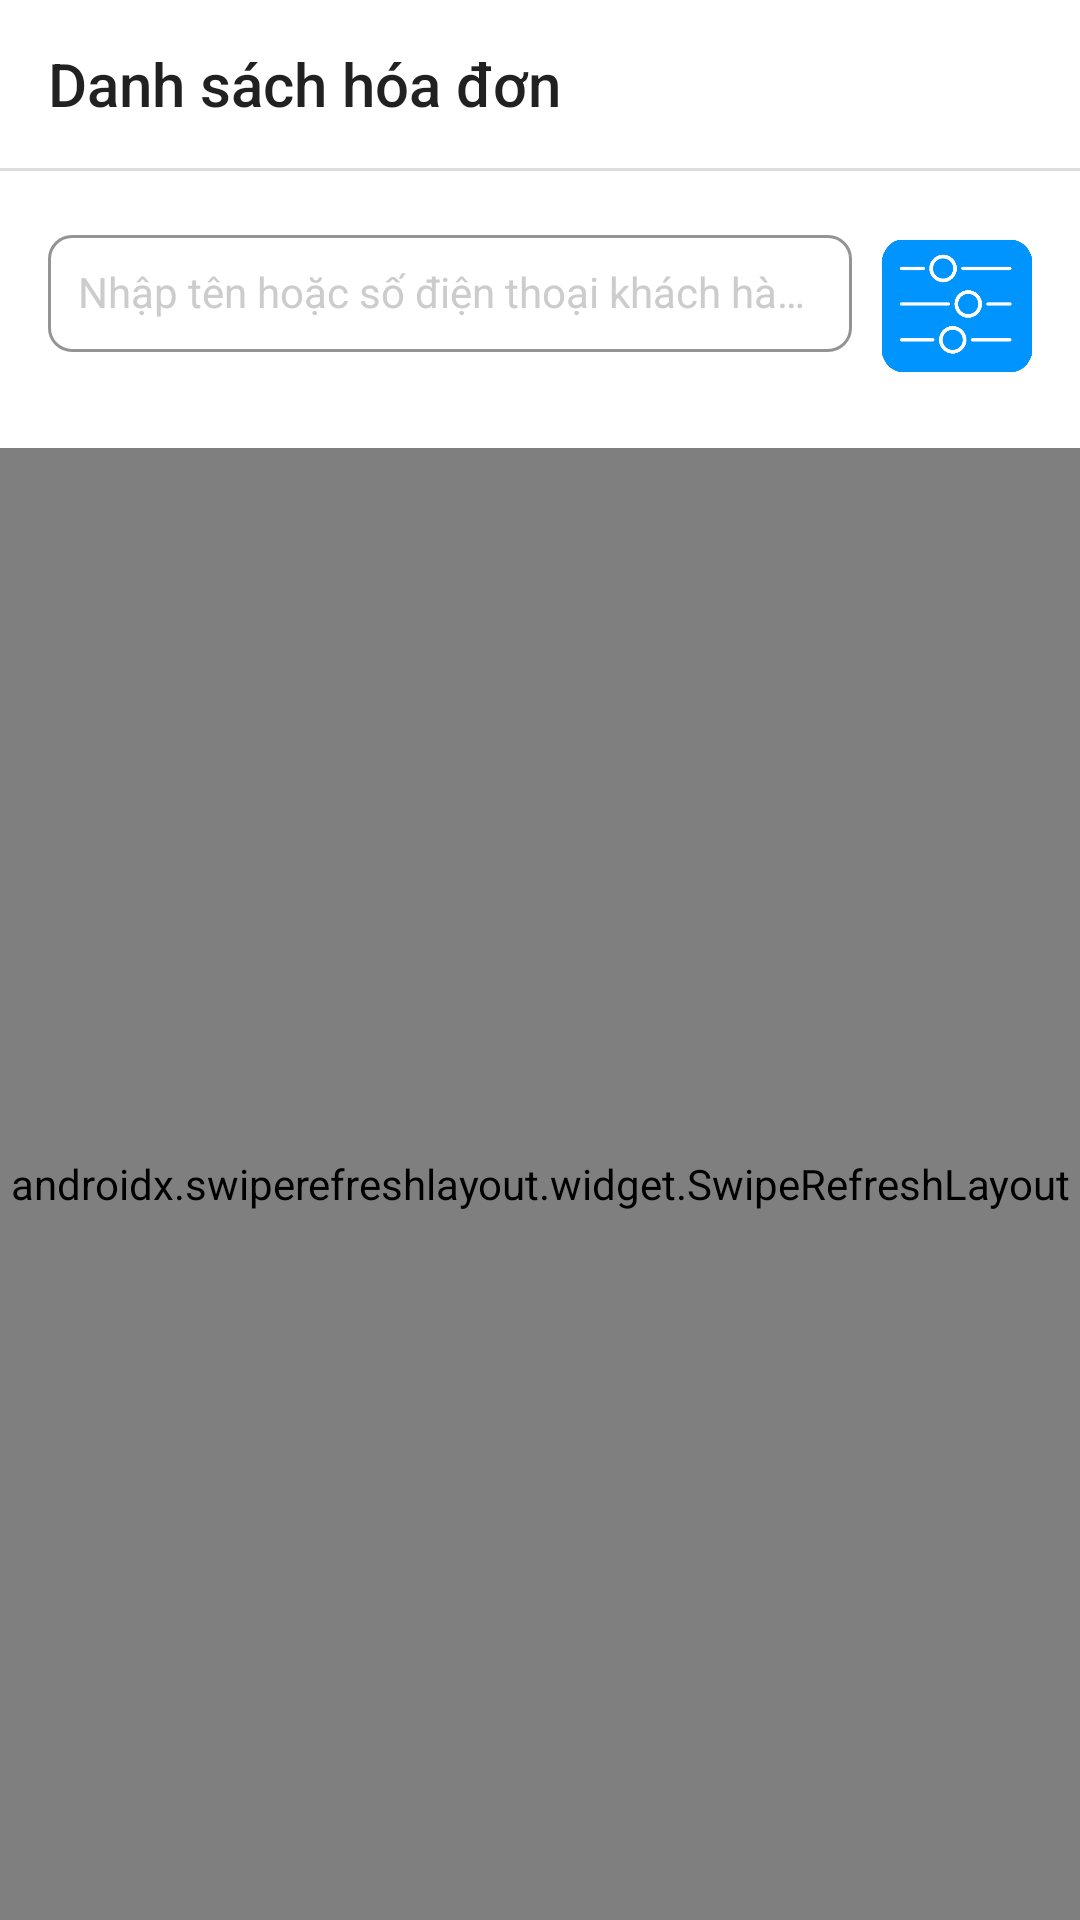

Icon click points for this 1080x1920 phone screenshot, format (x,y):
filter corner: (957,306)
